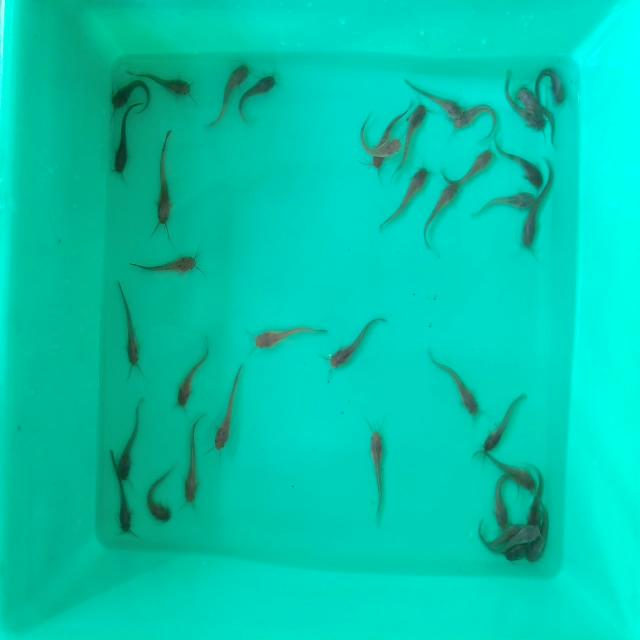lele: (434, 354, 483, 420), (379, 168, 426, 232), (482, 391, 528, 451), (328, 316, 376, 371), (213, 364, 241, 455), (205, 60, 241, 130), (470, 451, 535, 486), (117, 287, 144, 371), (176, 343, 209, 411), (256, 320, 318, 354), (523, 105, 565, 154), (424, 182, 456, 246), (154, 128, 173, 234), (244, 71, 282, 123), (117, 405, 142, 482), (183, 422, 205, 504), (148, 466, 176, 526), (500, 145, 540, 187), (368, 427, 386, 519), (374, 106, 400, 169), (112, 110, 135, 180), (481, 182, 531, 214), (127, 254, 199, 276), (405, 102, 431, 160), (148, 67, 195, 98), (454, 104, 498, 136), (520, 204, 546, 258), (497, 71, 533, 110), (424, 80, 461, 117), (450, 145, 494, 175), (111, 480, 133, 534), (110, 78, 150, 107), (501, 543, 547, 567), (355, 134, 401, 158), (491, 477, 511, 530), (538, 63, 566, 99), (483, 529, 536, 548), (527, 469, 542, 522), (541, 498, 554, 538), (496, 526, 517, 542)
